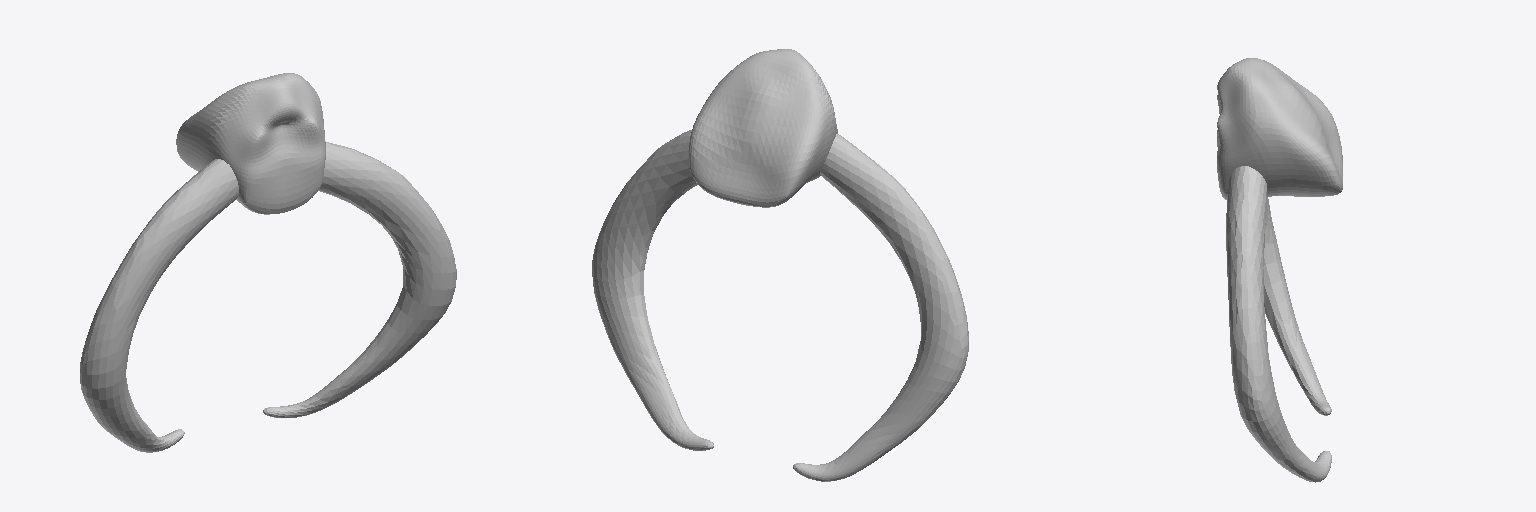
File: ribvertabrae16.obj
3 renders of one model, left to right at view 1: azimuth 30°, elevation 25°; view 2: azimuth 150°, elevation 25°; view 3: azimuth 270°, elevation 25°, orthographic.
Visible parts, largest first — view 1: Cube.100_Cube.102; view 2: Cube.100_Cube.102; view 3: Cube.100_Cube.102.
Boxes of the visible parts, x1=… form: Cube.100_Cube.102: x1=80, y1=73, x2=456, y2=452; Cube.100_Cube.102: x1=592, y1=49, x2=968, y2=481; Cube.100_Cube.102: x1=1217, y1=58, x2=1342, y2=482.
Size of the model in its own units: 0.3219 by 0.3147 by 0.0949.